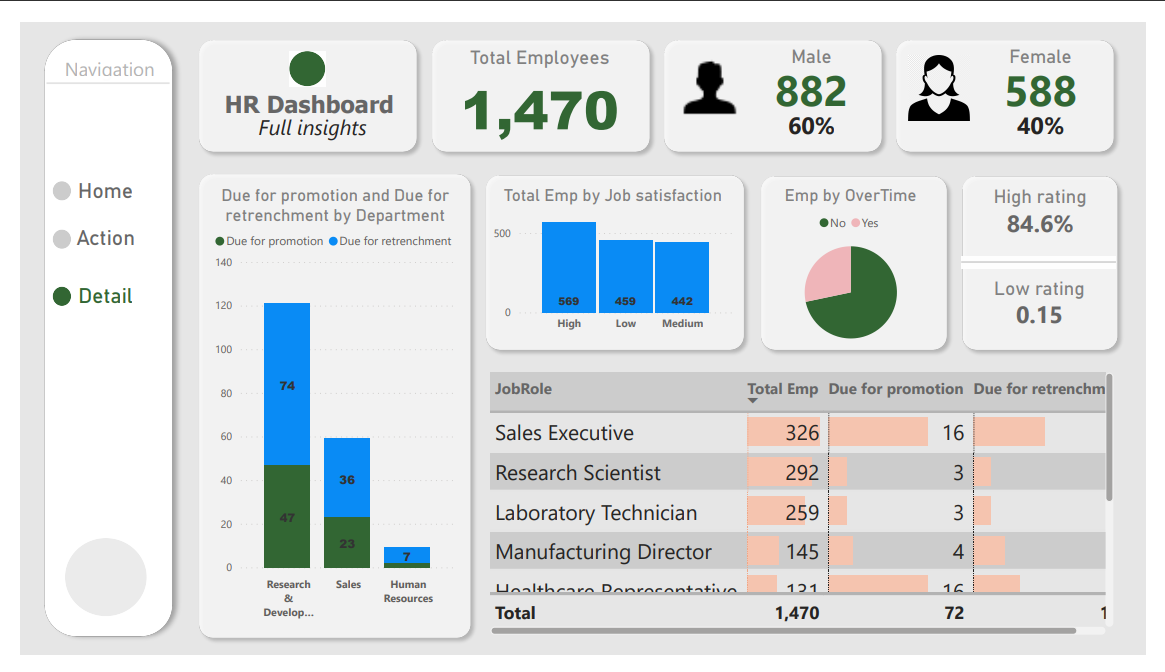

What the dashboard file says about the page in this screenshot:
{"tool":"powerbi","page":{"name":"Details","canvas":[1280,720],"ordinal":1},"visuals":[{"type":"shape","box":[16.5,9.6,166.5,699.2],"z":0},{"type":"shape","box":[195.4,12.4,264.3,143.1],"z":1000},{"type":"shape","box":[459.7,12.4,264.3,143.1],"z":2000},{"type":"shape","box":[724,12.4,264.3,143.1],"z":3000},{"type":"shape","box":[988.2,12.4,264.3,143.1],"z":4000},{"type":"shape","box":[195.2,164.4,325.9,544.6],"z":5000},{"type":"shape","box":[521.1,165.9,309.7,215.8],"z":6000},{"type":"shape","box":[833.6,166.7,228.3,215],"z":7000},{"type":"shape","box":[1063.1,166.7,193.3,215],"z":8000},{"type":"textbox","box":[209.7,71.2,238.7,51.4],"z":9000},{"type":"textbox","box":[36.9,33,130.5,51.4],"z":10000},{"type":"textbox","box":[209.7,97.6,251.9,55.4],"z":11000},{"type":"shape","box":[305.9,33,40.9,39.6],"z":12000},{"type":"card","title":"Total Employees","fields":{"Values":["All Measures.Total Emp"]},"box":[468,27.5,246.4,112.9],"z":13000},{"type":"card","title":"Male","fields":{"Values":["All Measures.Male"]},"box":[814.8,26.2,170.7,75.7],"z":14000},{"type":"card","fields":{"Values":["All Measures.Male %"]},"box":[834.1,90.8,132.1,55.1],"z":15000},{"type":"card","title":"Female","fields":{"Values":["All Measures.Female"]},"box":[1068.7,26.2,183.1,75.7],"z":16000},{"type":"card","fields":{"Values":["All Measures.Female %"]},"box":[1083.9,90.8,152.8,53.7],"z":17000},{"type":"image","box":[736.3,26.2,95,90.8],"z":18000},{"type":"image","box":[1004.7,33,79.8,84],"z":19000},{"type":"columnChart","fields":{"Category":["HR Analytics Data.Department"],"Y":["All Measures.Due for promotion","All Measures.Due for retirment"]},"box":[216.3,185.9,284.8,501.1],"z":20000},{"type":"tableEx","fields":{"Values":["HR Analytics Data.JobRole","All Measures.Total Emp","All Measures.Due for promotion","All Measures.Due for retirment"]},"box":[529.5,393.8,718.8,308.1],"z":21000},{"type":"columnChart","fields":{"Category":["HR Analytics Data.Job satisfaction"],"Y":["All Measures.Total Emp"]},"box":[532.8,186.4,281.8,173.2],"z":22000},{"type":"pieChart","title":"Emp by OverTime","fields":{"Category":["HR Analytics Data.OverTime"],"Y":["All Measures.Total Emp"]},"box":[820.3,186,248.9,192.1],"z":23000},{"type":"card","title":"High rating","fields":{"Values":["All Measures.% High emp rating"]},"box":[1066.7,186,186,61.6],"z":24000},{"type":"card","title":"Low rating","fields":{"Values":["All Measures.% Low emp rating"]},"box":[1065.5,289.9,186,61.6],"z":25000},{"type":"shape","box":[1070.1,265.7,176.1,14.7],"z":26000},{"type":"shape","box":[36.9,300.7,21.1,22.4],"z":27000},{"type":"actionButton","title":"Detail","box":[27.7,298,139.8,39.6],"z":28000},{"type":"shape","box":[36.9,236,21.1,22.4],"z":29000},{"type":"actionButton","title":"Action","box":[27.7,232.1,139.8,58],"z":30000},{"type":"shape","box":[36.9,180.7,21.1,22.4],"z":31000},{"type":"actionButton","title":"Home","box":[27.7,178,139.8,54.1],"z":32000},{"type":"shape","box":[51.4,586.8,92.3,89.7],"z":33000},{"type":"shape","box":[30.2,61.6,140.1,15.7],"z":34000}]}

Visuals, with their boxes in screenshot pixels (x1, y1, x2, y2), scaled from the page's 1280x720 canvas onto the 1165x672 screenshot:
shape: [15, 9, 167, 662]
shape: [178, 12, 418, 145]
shape: [418, 12, 659, 145]
shape: [659, 12, 900, 145]
shape: [899, 12, 1140, 145]
shape: [178, 153, 474, 662]
shape: [474, 155, 756, 356]
shape: [759, 156, 966, 356]
shape: [968, 156, 1144, 356]
textbox: [191, 66, 408, 114]
textbox: [34, 31, 152, 79]
textbox: [191, 91, 420, 143]
shape: [278, 31, 316, 68]
"Total Employees" card: [426, 26, 650, 131]
"Male" card: [742, 24, 897, 95]
card - All Measures.Male %: [759, 85, 879, 136]
"Female" card: [973, 24, 1139, 95]
card - All Measures.Female %: [987, 85, 1126, 135]
image: [670, 24, 757, 109]
image: [914, 31, 987, 109]
columnChart - HR Analytics Data.Department x All Measures.Due for promotion: [197, 174, 456, 641]
tableEx - HR Analytics Data.JobRole x All Measures.Total Emp: [482, 368, 1136, 655]
columnChart - HR Analytics Data.Job satisfaction x All Measures.Total Emp: [485, 174, 741, 336]
"Emp by OverTime" pieChart: [747, 174, 973, 353]
"High rating" card: [971, 174, 1140, 231]
"Low rating" card: [970, 271, 1139, 328]
shape: [974, 248, 1134, 262]
shape: [34, 281, 53, 302]
"Detail" actionButton: [25, 278, 152, 315]
shape: [34, 220, 53, 241]
"Action" actionButton: [25, 217, 152, 271]
shape: [34, 169, 53, 190]
"Home" actionButton: [25, 166, 152, 217]
shape: [47, 548, 131, 631]
shape: [27, 57, 155, 72]
